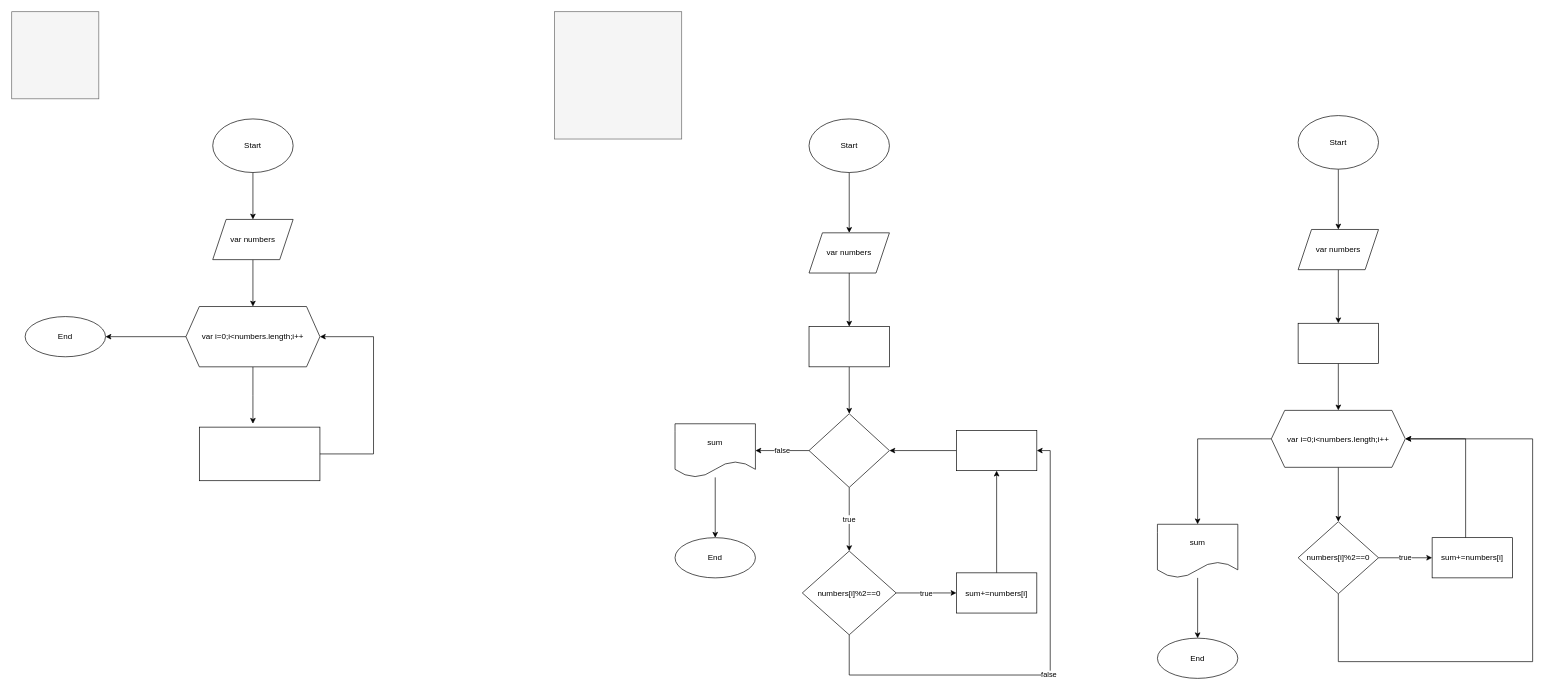
Some shapes in this 1550 by 692 pixel diagram are drawn without their labels. The shapes that lost their labels are listed below. From the top down, each one's box as (x1, y1, x2, y2) in pixels, then its label:
(11, 11, 99, 99): Verilmis ededler siyahisindaki ededleri gosteren alqoritm
(554, 11, 682, 139): Verilmis ededler siyahisindaki cut ededlerin cemini tapan alqoritm
(808, 326, 889, 367): var sum=0; var i=0;
(1297, 323, 1379, 363): var sum=0;
(199, 426, 320, 481): numbers[i] = numbers[i]+1
(808, 413, 889, 487): i<numbers.length
(956, 430, 1037, 471): i++
